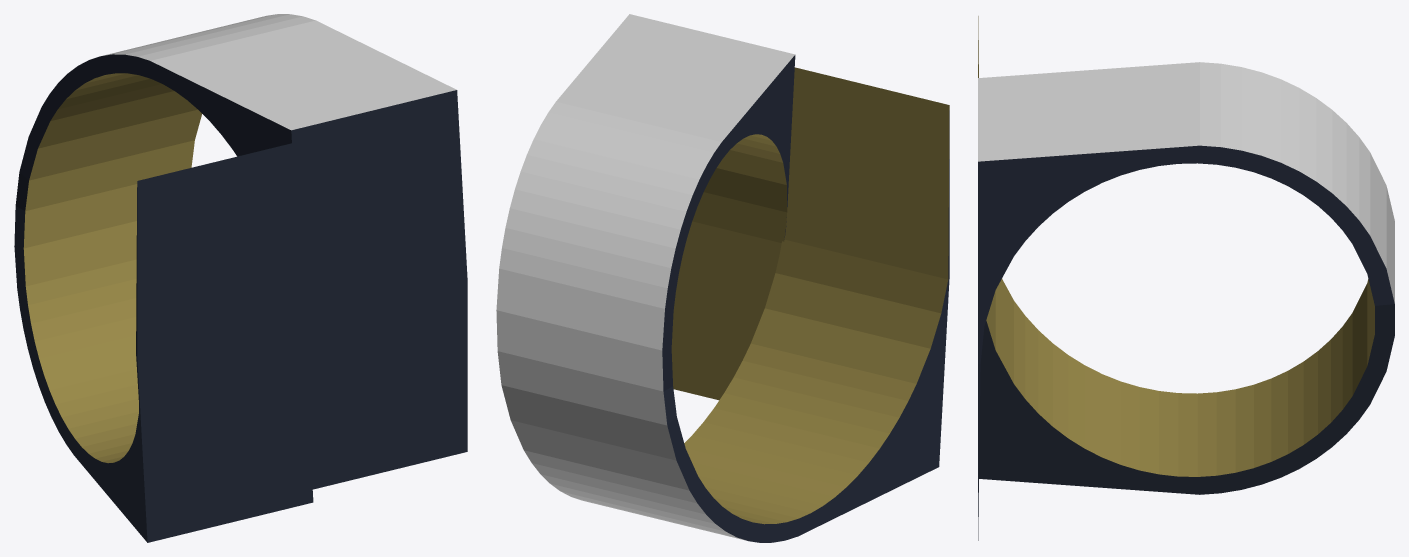
File: Loop Right.fbx
3 renders of one model, left to right at view 1: azimuth 30°, elevation 25°; view 2: azimuth 150°, elevation 25°; view 3: azimuth 270°, elevation 25°, orthographic. The views are drawn at different scales.
Visible parts, largest first — view 1: Loop Right; view 2: Loop Right; view 3: Loop Right.
Boxes of the visible parts, bbox=[...] form: Loop Right: bbox=[14, 14, 467, 542]; Loop Right: bbox=[496, 14, 949, 542]; Loop Right: bbox=[978, 16, 1394, 540].
Bounding box in the file's own units: 1593 × 1740 × 1687.
